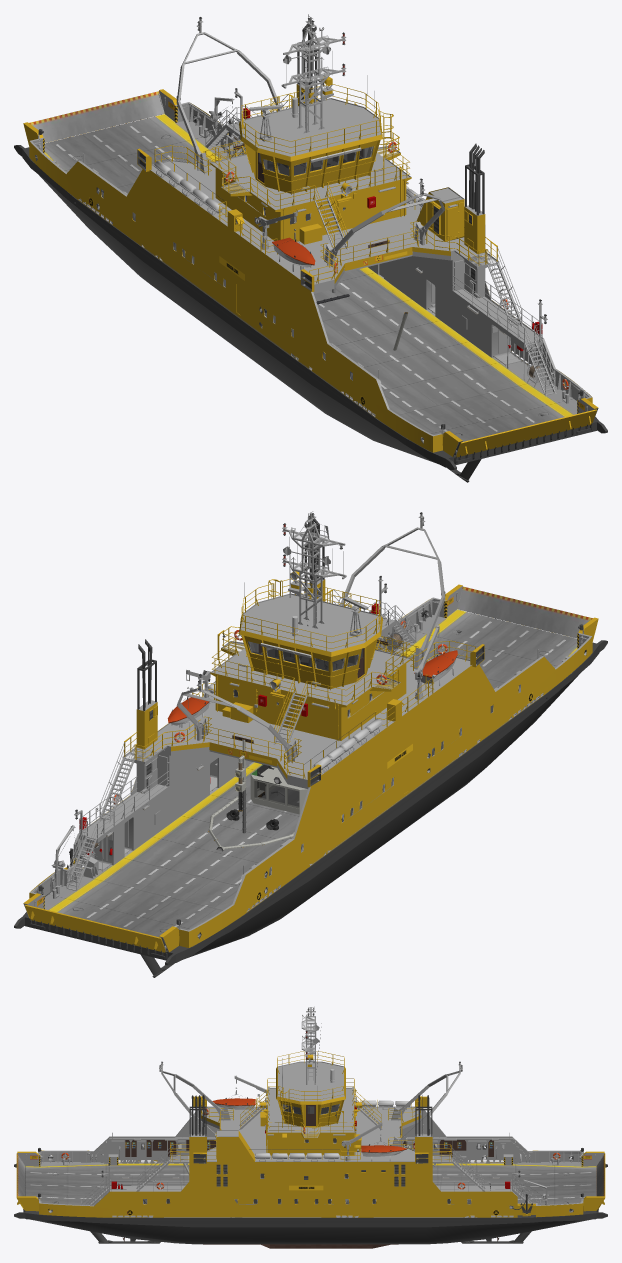
Rendered from sea.glb.
3 renders of one model, top to bottom at view 1: azimuth 30°, elevation 25°; view 2: azimuth 150°, elevation 25°; view 3: azimuth 270°, elevation 25°, orthographic. The views are drawn at different scales.
Parts seen in each view (by area): view 1: ferry; view 2: ferry, tug; view 3: ferry, tug.
Part boxes in pixels (bbox=[...]): ferry: bbox=[14, 14, 607, 482]; ferry: bbox=[14, 511, 607, 977]; tug: bbox=[208, 739, 307, 851]; ferry: bbox=[14, 1006, 607, 1244]; tug: bbox=[182, 1126, 410, 1248].
Bounding box in the file's own units: 11.49 × 22.01 × 50.
21 materials, 19 textured.
